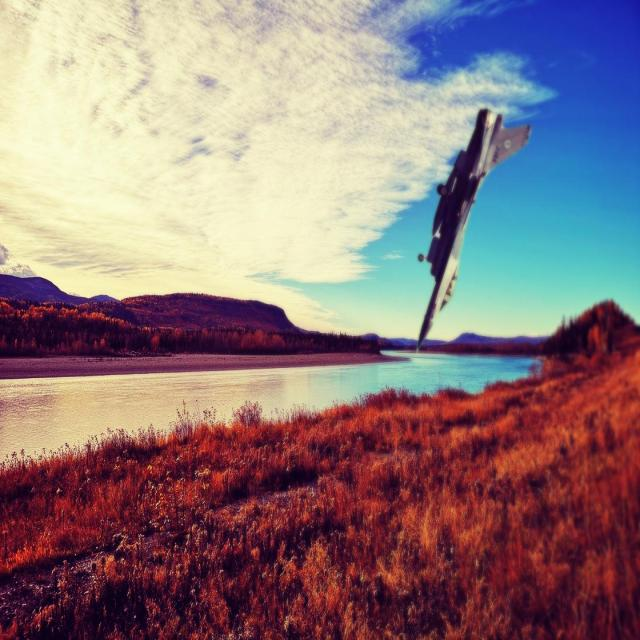airplane: (414, 106, 530, 352)
